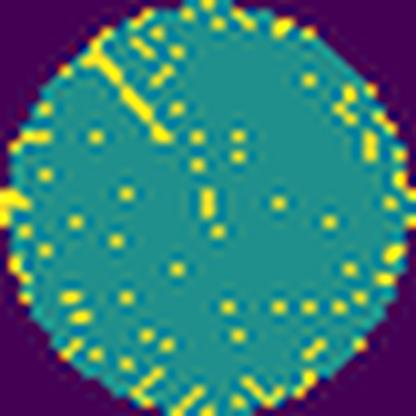Scratch: (76, 28, 178, 146)
